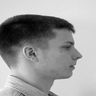ear: (20, 42, 44, 67)
